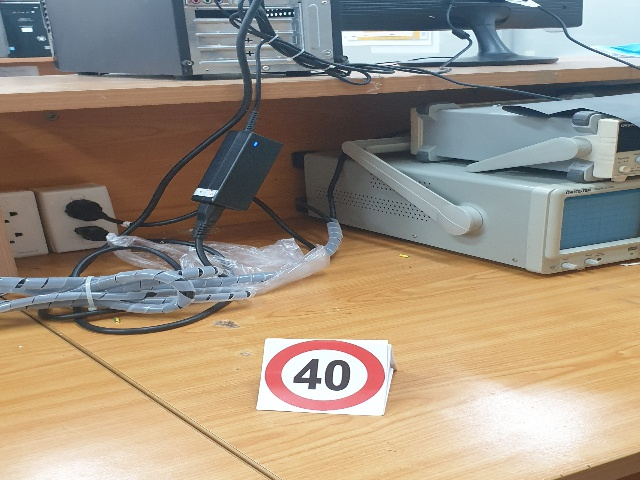Limit 40: (263, 340, 385, 411)
